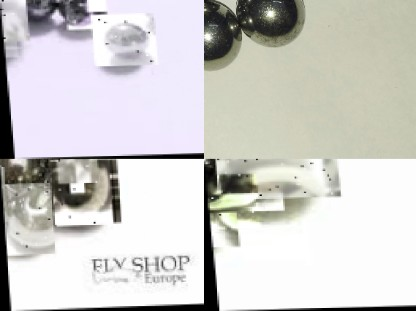ironball: (215, 159, 340, 200), (51, 159, 119, 226), (1, 183, 54, 256), (90, 13, 157, 67), (239, 0, 306, 49), (203, 0, 247, 72), (205, 174, 259, 229), (64, 0, 108, 30), (0, 0, 29, 41), (59, 159, 98, 184), (0, 165, 6, 222), (2, 38, 17, 57)
